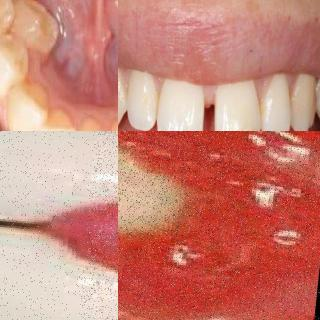Gum Swelling: (118, 131, 309, 313), (52, 131, 118, 320)
calculus: (118, 131, 182, 241)
maligned: (10, 0, 64, 52)
